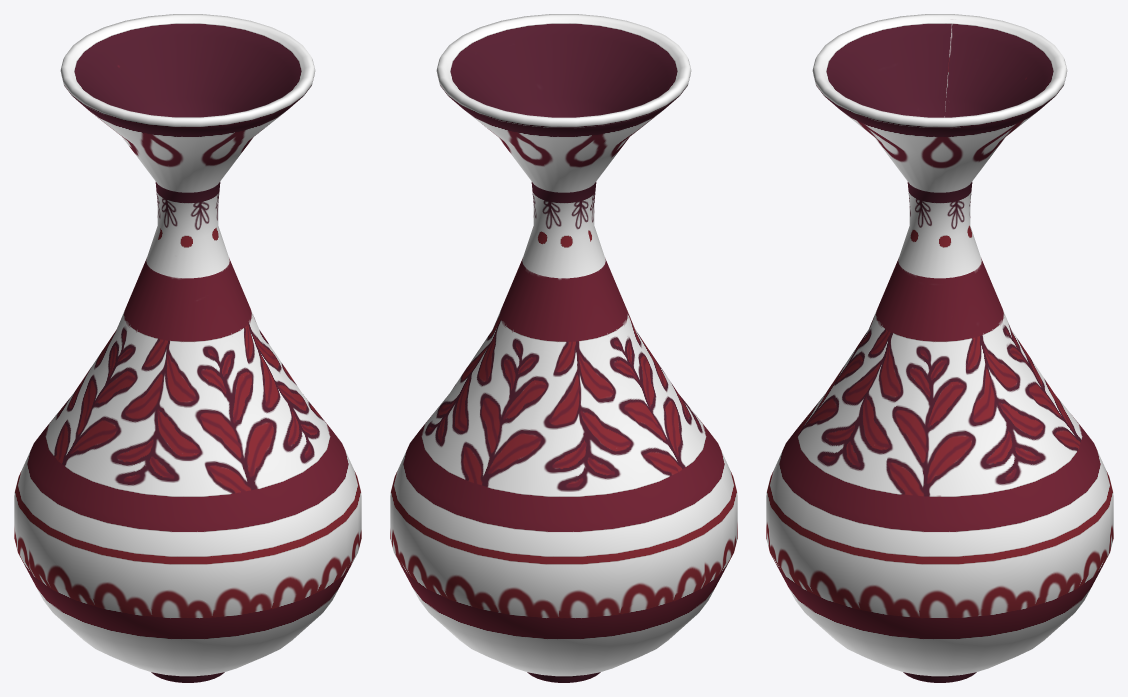
Rendered from vase.fbx.
3 renders of one model, left to right at view 1: azimuth 30°, elevation 25°; view 2: azimuth 150°, elevation 25°; view 3: azimuth 270°, elevation 25°, orthographic.
Parts seen in each view (by area): view 1: Sphere; view 2: Sphere; view 3: Sphere.
Boxes of the visible parts, x1,y1,x2,y2 form: Sphere: (14, 14, 361, 682); Sphere: (390, 14, 737, 682); Sphere: (766, 14, 1113, 682).
Size of the model in its own units: 259 by 496 by 260.
